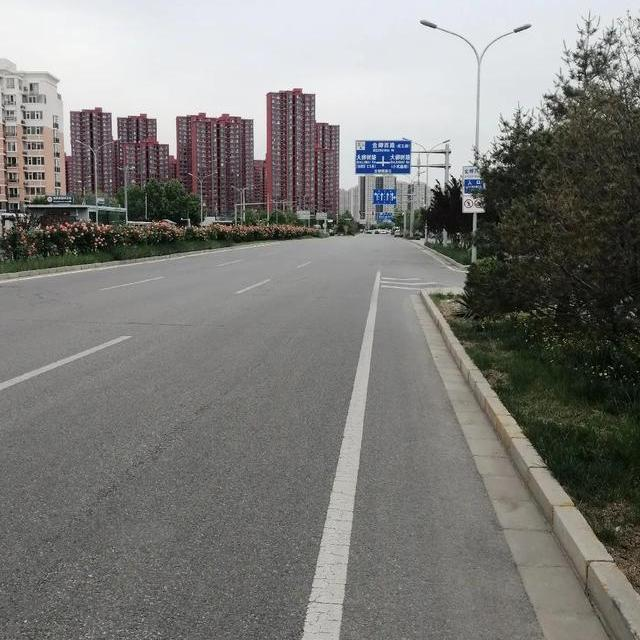curb: (422, 292, 639, 639), (0, 246, 244, 284)
